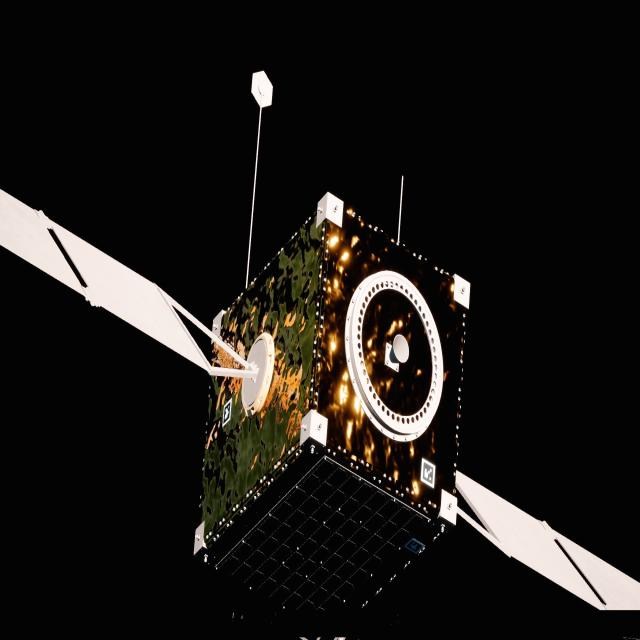medium_debris: (0, 189, 640, 640)
